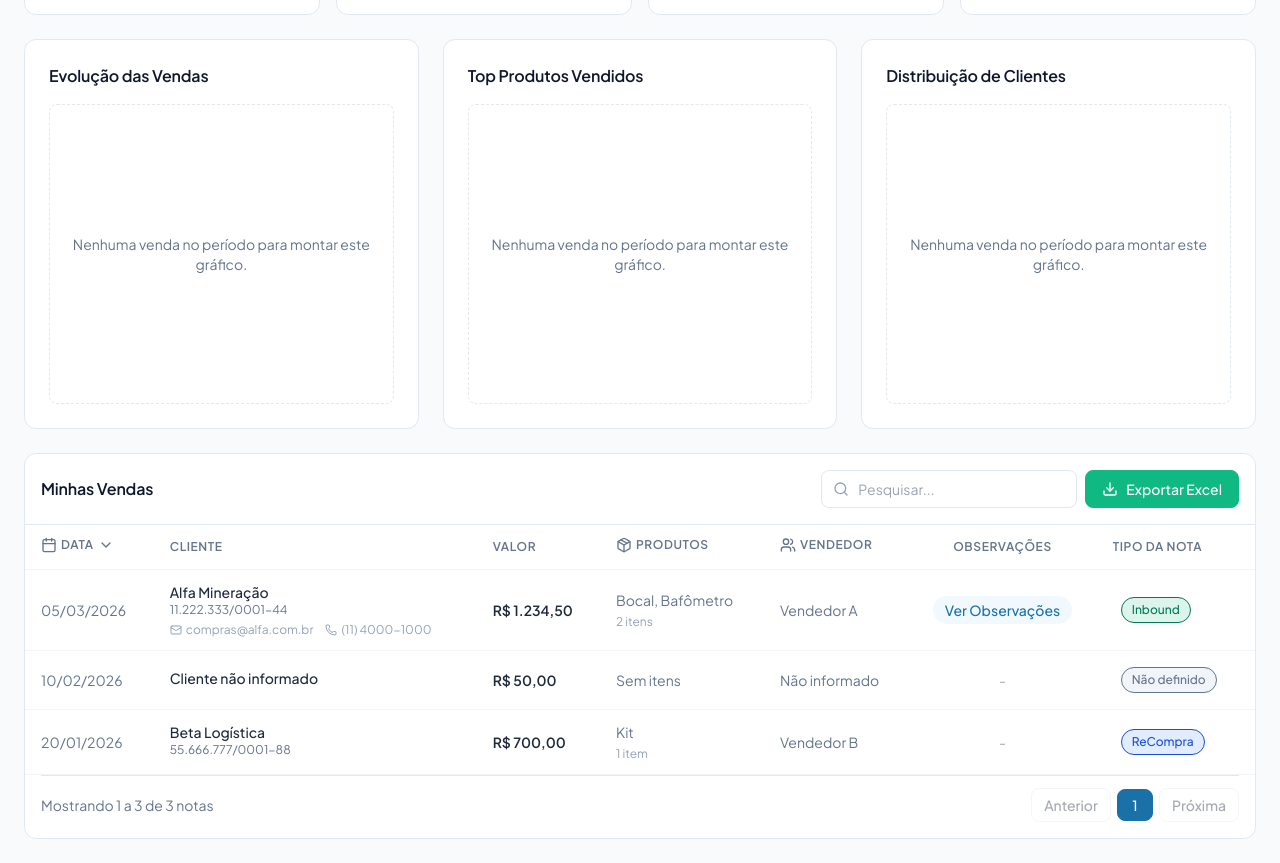
Test case: edicao do tipo da nota em Vendedores › nota sem tipo abre a edicao em Outbound
(page scrolled)
Click the button "Não definido" at x=1169, y=680, box top-left (1113, 663), bottom-right (1225, 697)
(page scrolled)
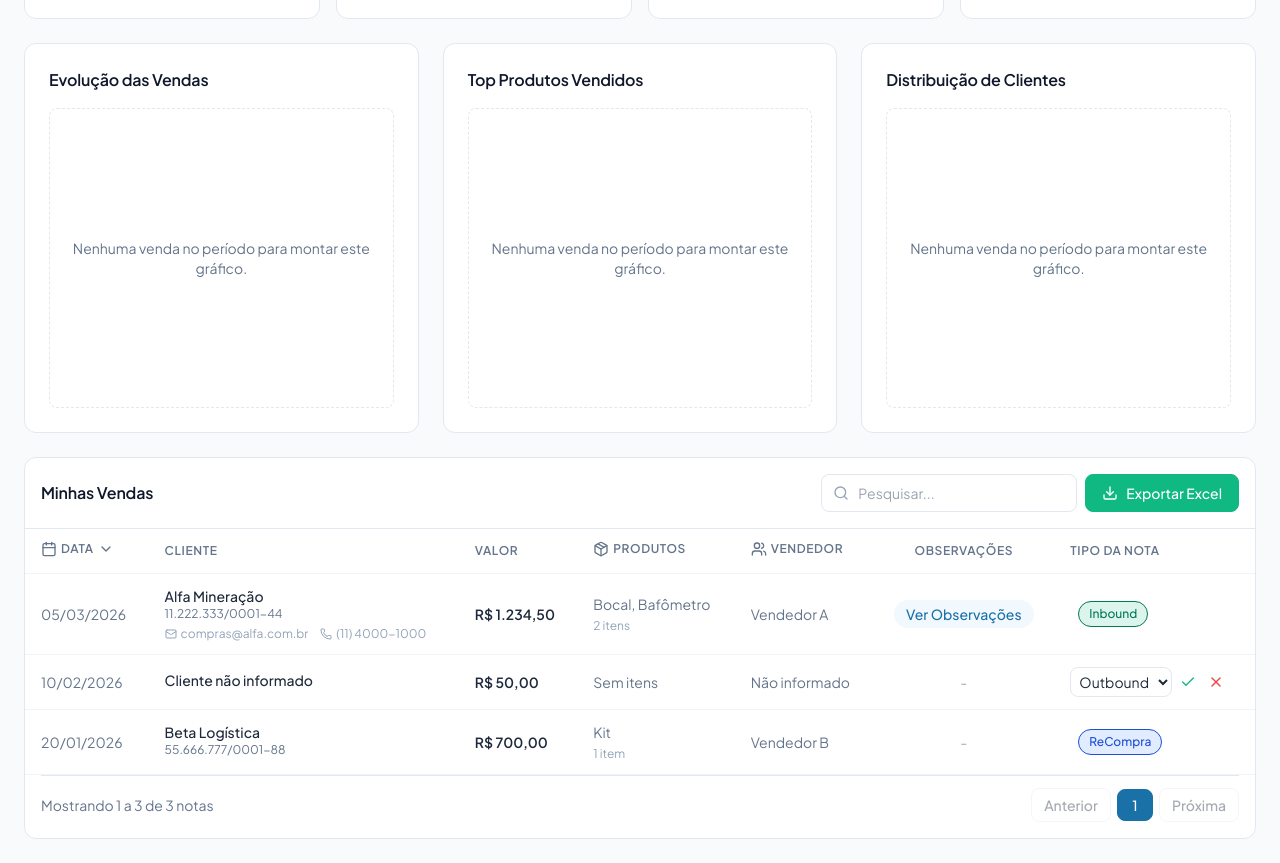
Result: the dropdown shows "Outbound" at top-left (1070, 667), bottom-right (1172, 697)
